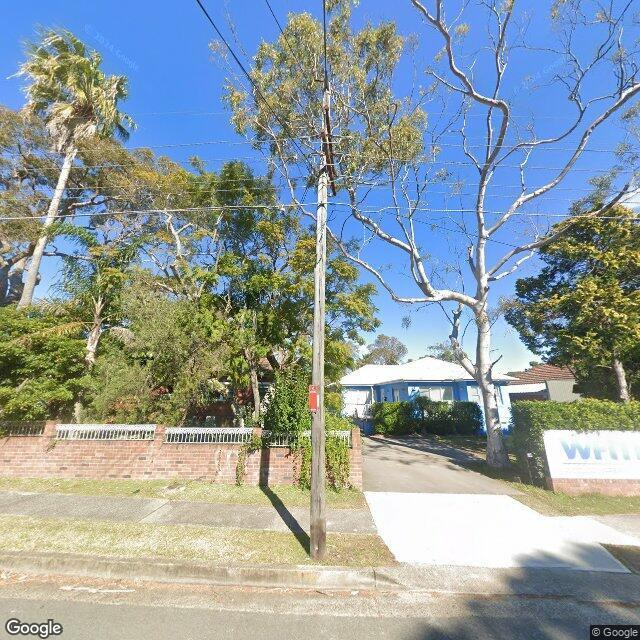crossarm: (316, 131, 337, 197), (324, 106, 338, 178)
timber-pole: (310, 81, 331, 562)
